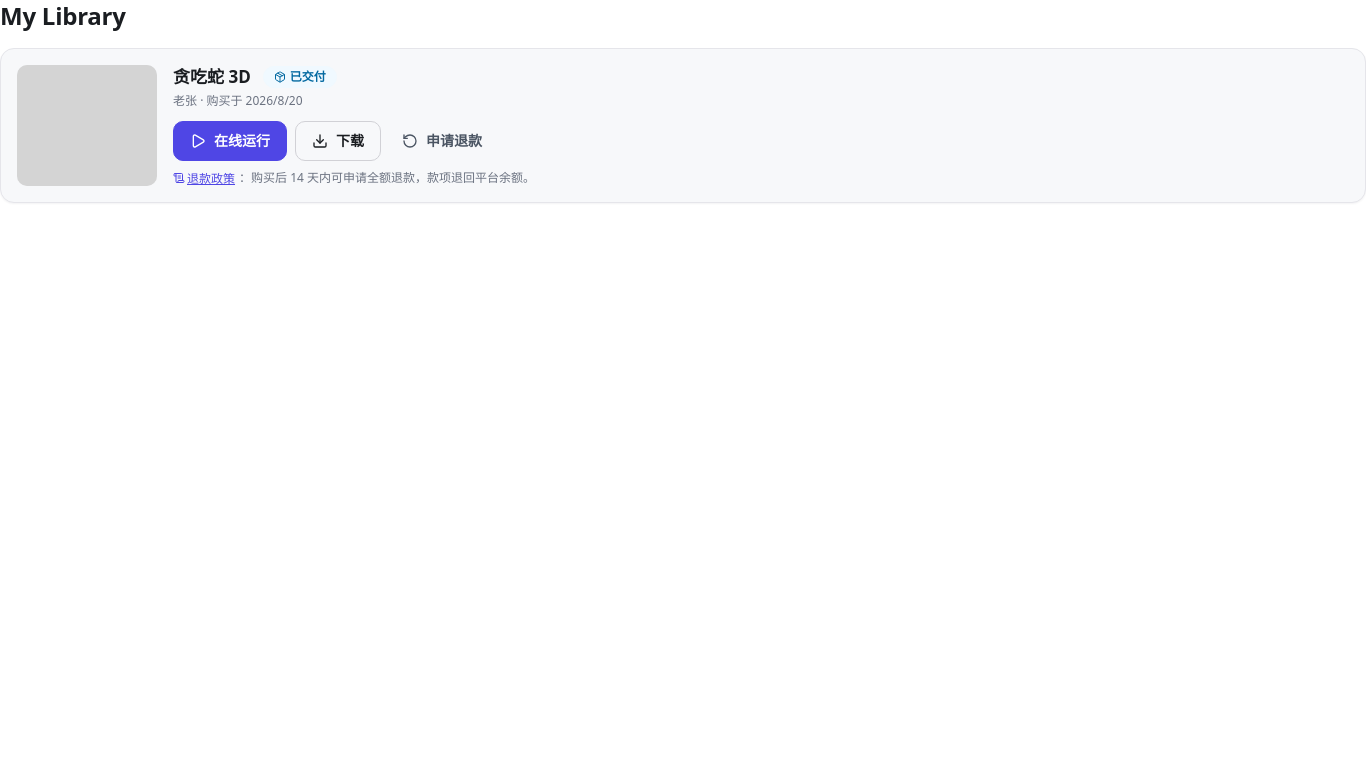
Scenario: LibraryPage（区域 3 My Library） › 退款政策 opens policy dialog（退款路径可被找到）
The image size is (1366, 768).
Expected: the link "贪吃蛇 3D" is shown, [173,65,251,88]
Click the button "退款政策" at [204, 178], box [173,169,235,186]
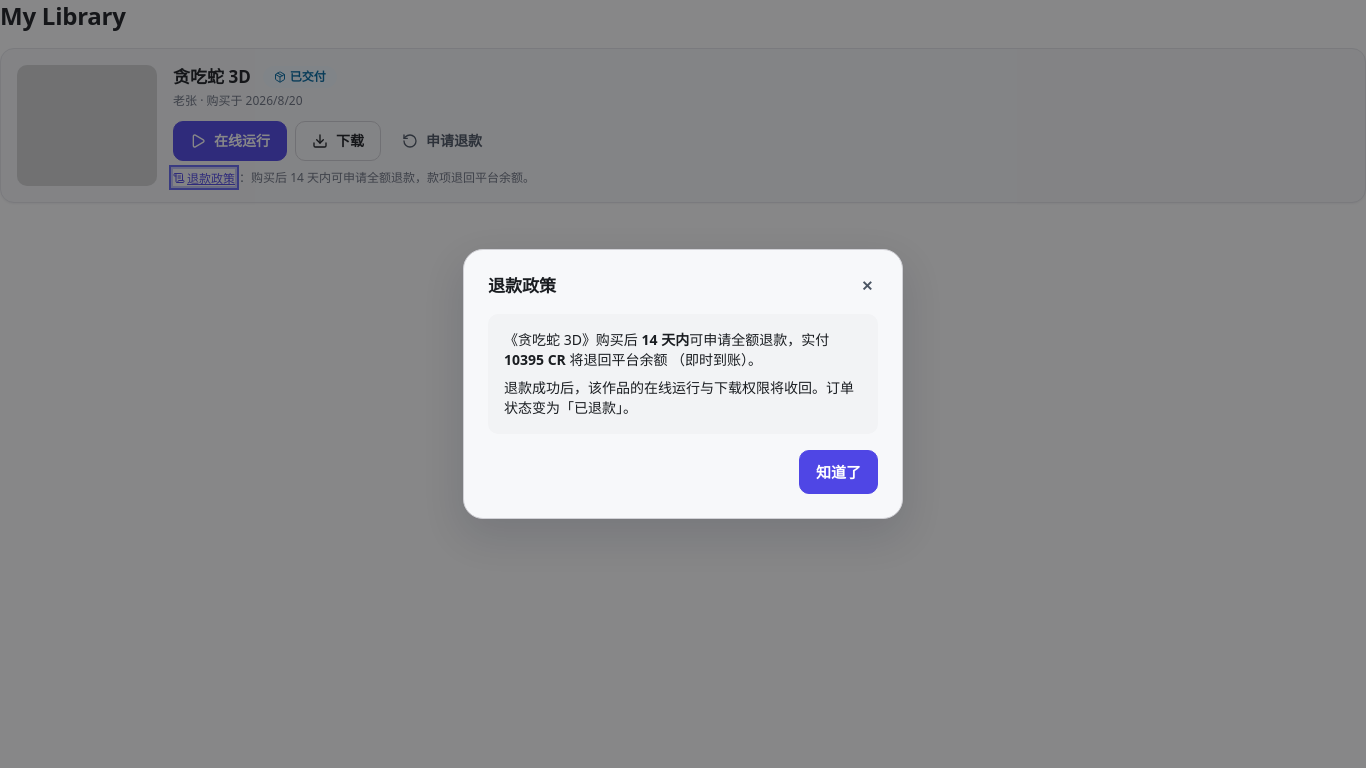
Result: the heading "退款政策" is shown at [488,274,556,298]
Result: the text "《贪吃蛇 3D》购买后 14 天内可申请全额退款，实付 10395 CR 将退回平台余额 （即时到账）。" is shown at [504,330,862,370]
